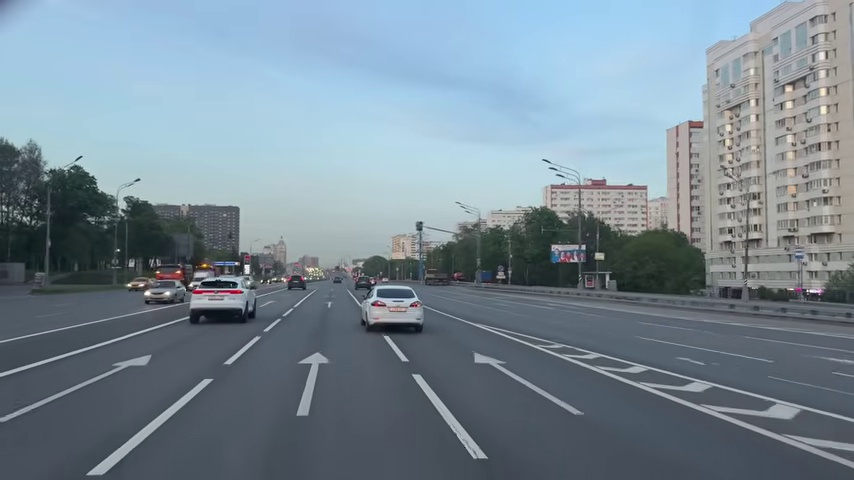apagada: (70, 153, 86, 170), (539, 156, 556, 171), (127, 175, 142, 189)
